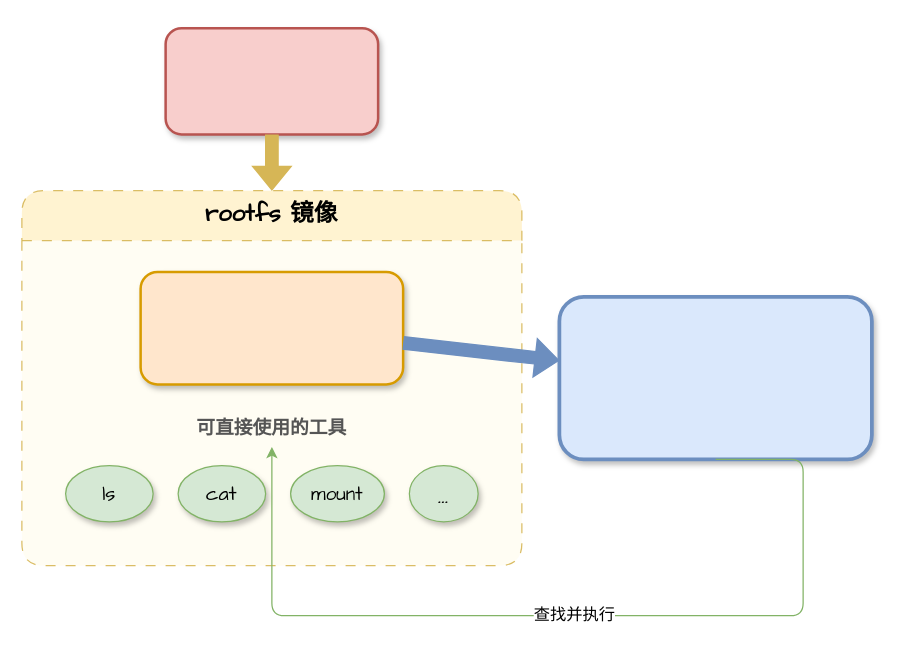
The diagram is 903 pixels wide and 648 high, and some of its shapes have lost their labels. Each missing label, with the centre of its shape:
"F7LY 挂载" belongs at (272,82).
"💻 交互式 Shell F7LY:/root$" belongs at (716,379).
"📦 /bin/busybox sh -i" belongs at (272,329).
